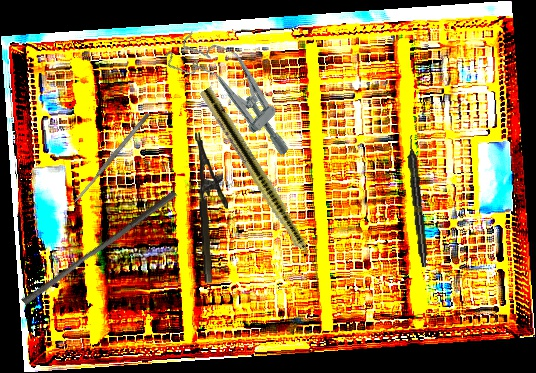Handpiece: (196, 85, 330, 284), (405, 134, 430, 268)
Needle Holder: (195, 130, 232, 284)
Pusher: (21, 184, 178, 311)
Spatula Surgical: (71, 111, 152, 205)
Speculum: (160, 17, 313, 166)
